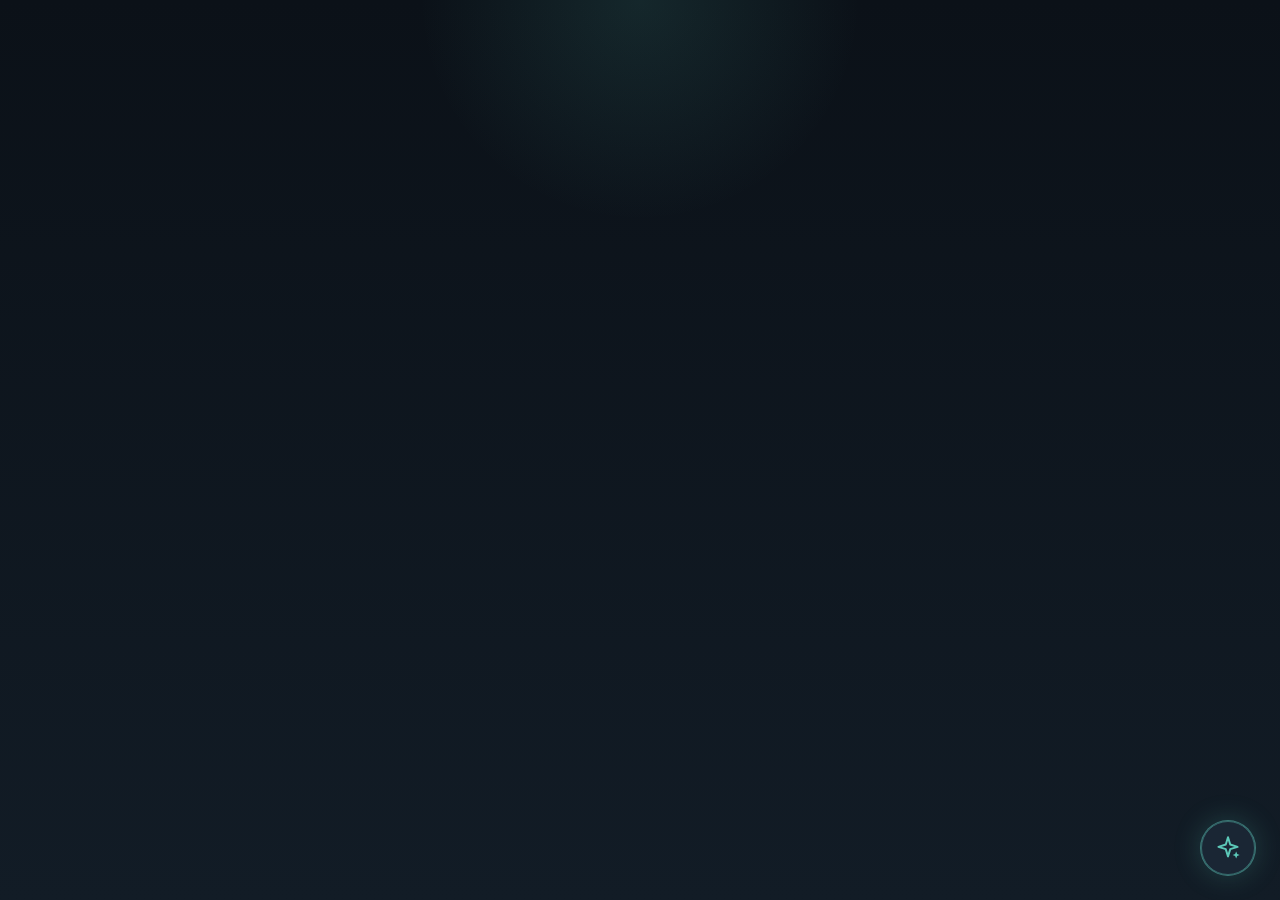
Test: ChatbotWidget › displays provider errors and lets the user retry service status
Click the button named "open e.d.i.t.h. ai assistant": (1228, 848) left=1200, top=820, right=1256, bottom=876
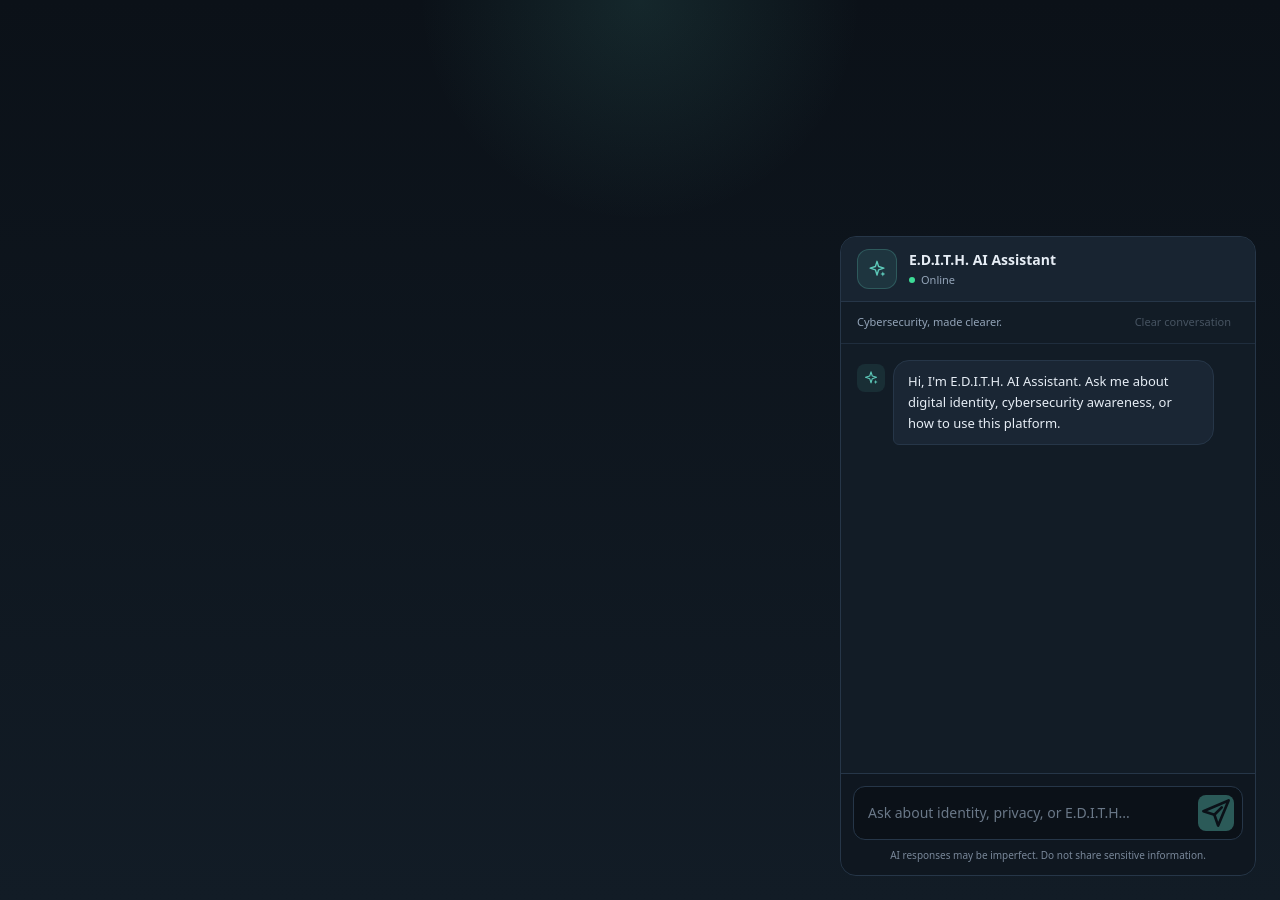
In the text box named "message e.d.i.t.h. ai assistant": (1026, 813) left=862, top=795, right=1190, bottom=831, type "How can I protect my account?"
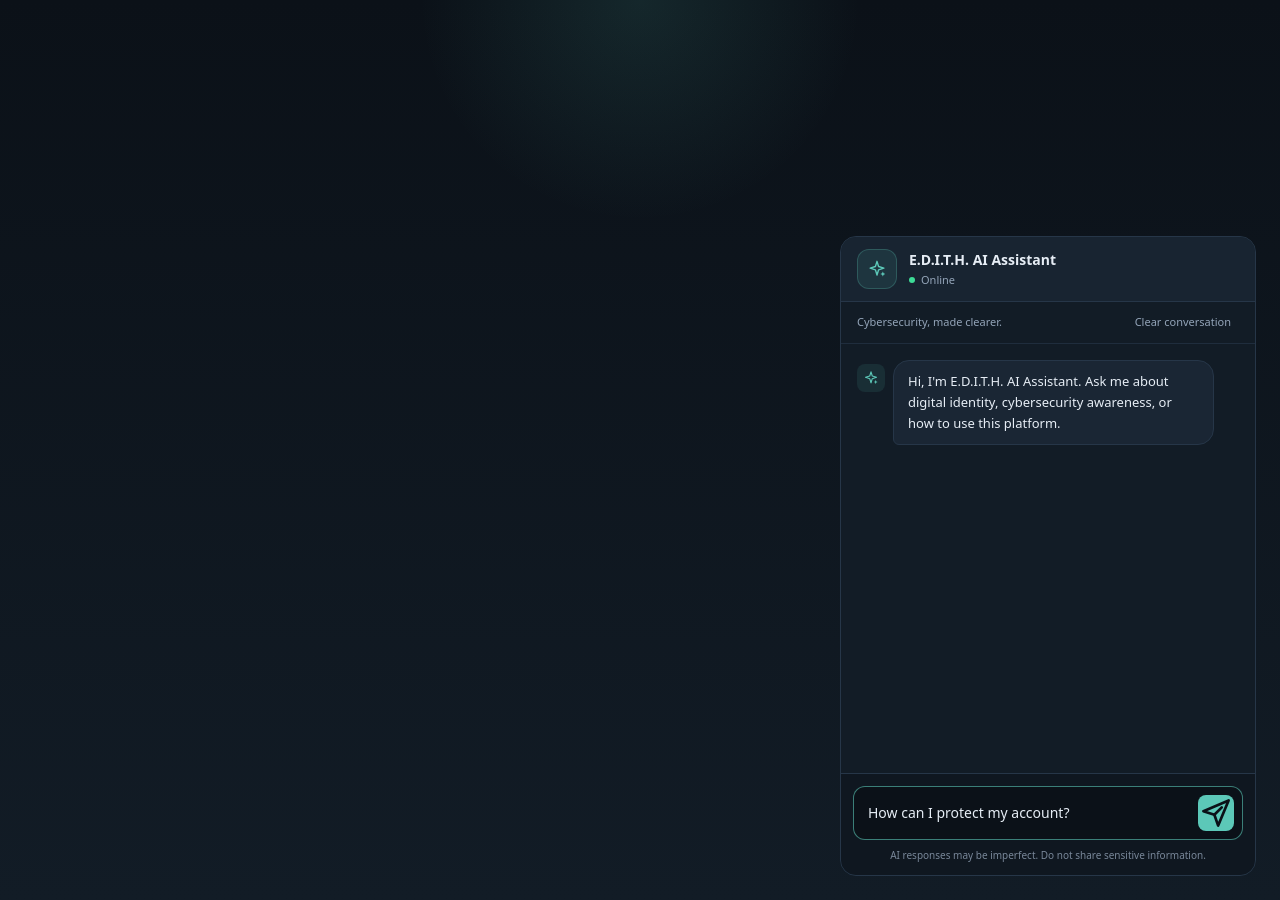
Click the button named "send message": (1216, 813) left=1198, top=795, right=1234, bottom=831
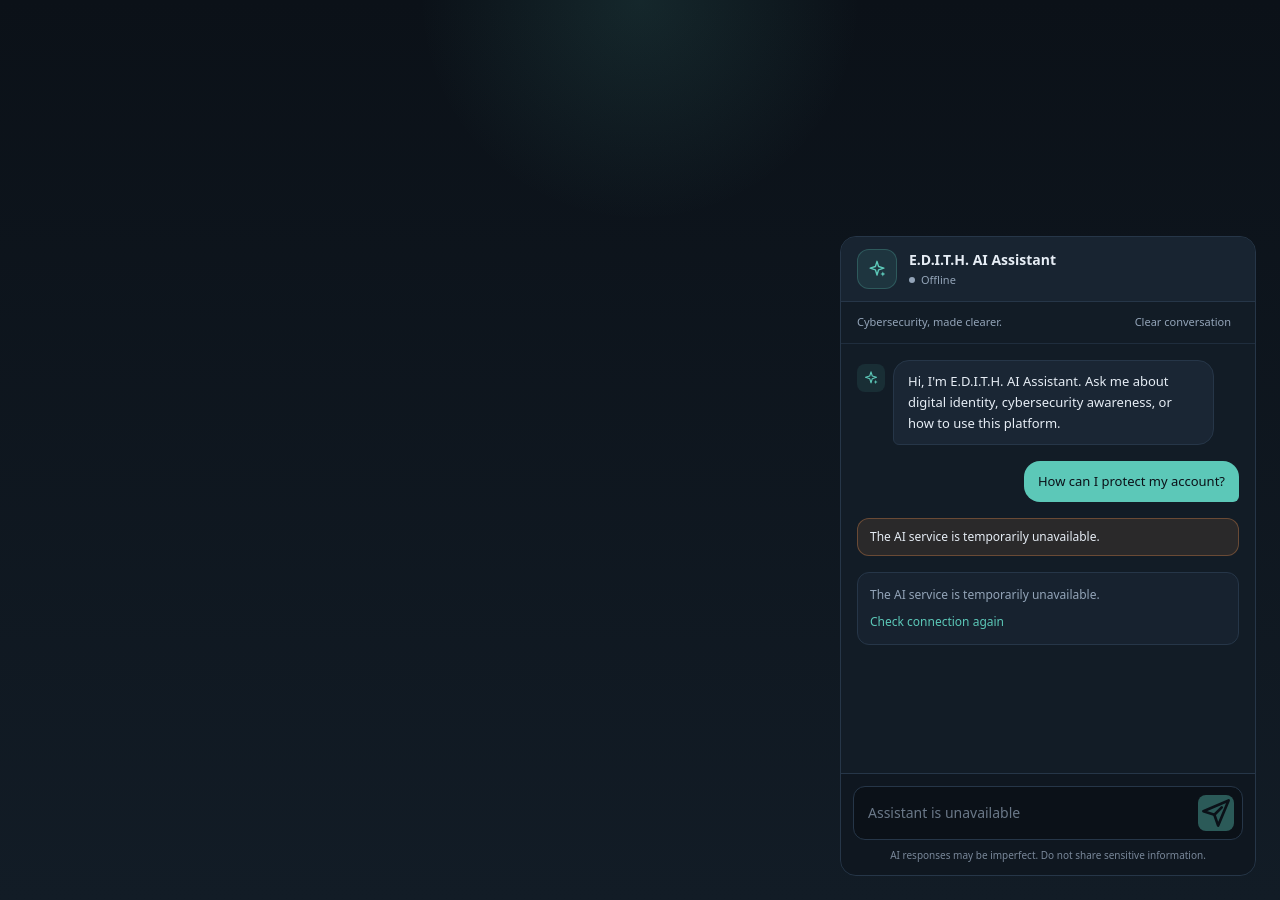
expect the message shows "temporarily unavailable": met, box left=870, top=528, right=1100, bottom=545
expect the button "Check connection again" is shown: met, box left=870, top=612, right=1004, bottom=632
